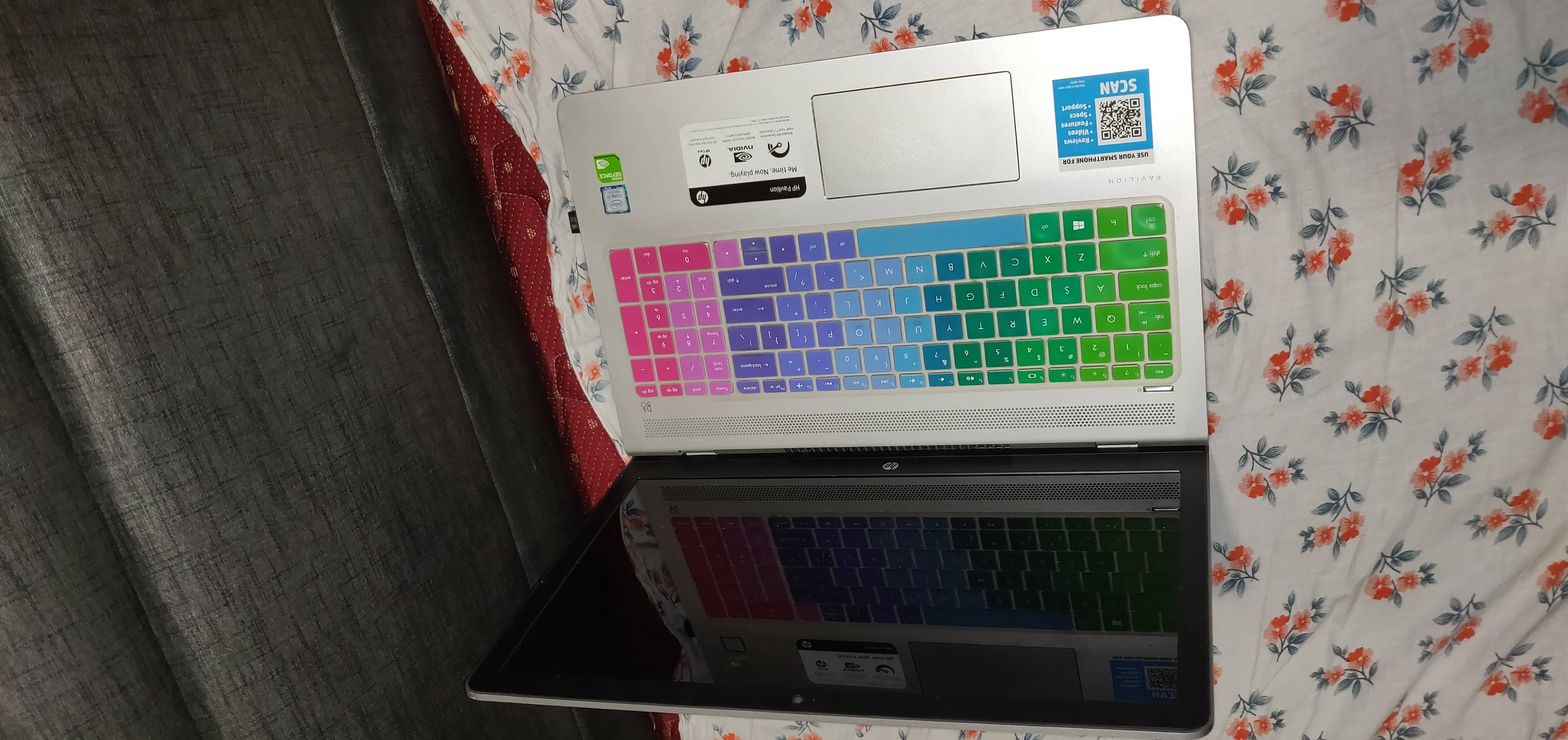Electronics: (443, 5, 1248, 738)
